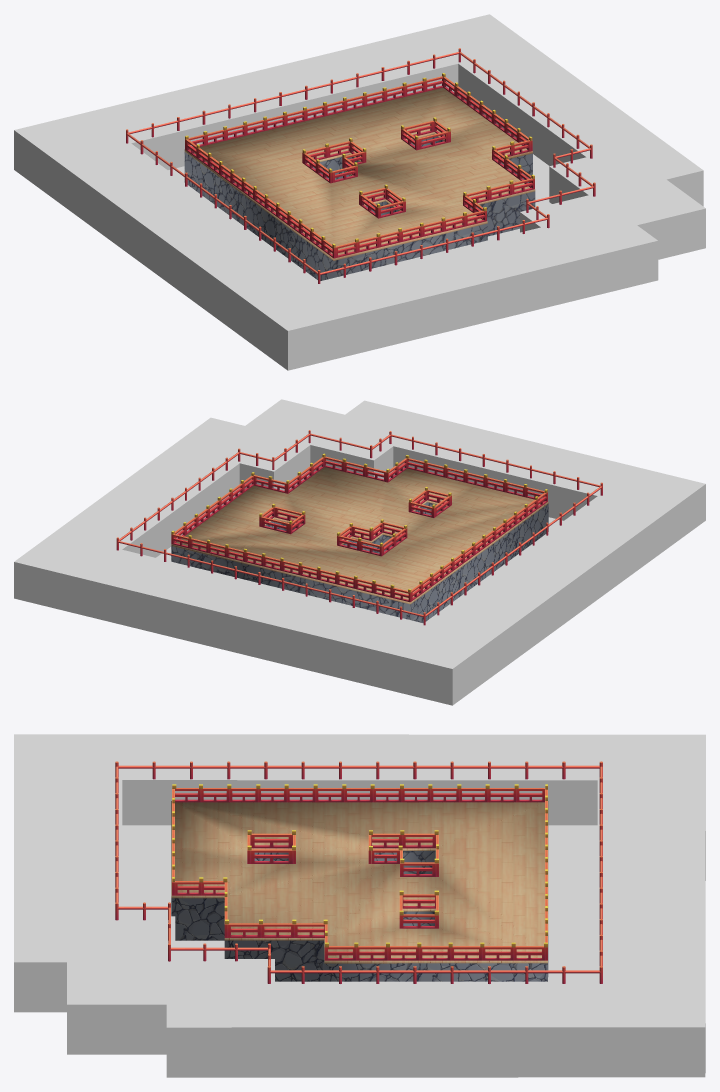
Rendered from Battle_Stage 40.fbx.
3 renders of one model, top to bottom at view 1: azimuth 30°, elevation 25°; view 2: azimuth 150°, elevation 25°; view 3: azimuth 270°, elevation 25°, orthographic. The views are drawn at different scales.
Parts seen in each view (by area): view 1: Platform_Cube__3_.001, Platform_Cube__3_, Cube.098, Cube.135; view 2: Platform_Cube__3_.001, Platform_Cube__3_, Cube.098, Cube.135; view 3: Platform_Cube__3_.001, Platform_Cube__3_, Cube.098, Cube.135.
Part boxes in pixels (bbox=[...]): Platform_Cube__3_.001: bbox=[14, 14, 705, 370]; Platform_Cube__3_: bbox=[184, 87, 535, 280]; Cube.098: bbox=[185, 73, 534, 258]; Cube.135: bbox=[126, 48, 595, 283]; Platform_Cube__3_.001: bbox=[14, 399, 705, 705]; Platform_Cube__3_: bbox=[171, 467, 548, 623]; Cube.098: bbox=[171, 453, 547, 602]; Cube.135: bbox=[116, 430, 602, 625]; Platform_Cube__3_.001: bbox=[14, 734, 705, 1077]; Platform_Cube__3_: bbox=[171, 801, 548, 981]; Cube.098: bbox=[172, 784, 547, 960]; Cube.135: bbox=[115, 761, 602, 983].
Bounding box in the file's own units: 12544 × 1337 × 12513.
